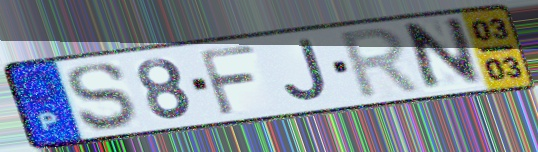8: (134, 56, 195, 122)
F: (195, 43, 261, 119)
J: (280, 37, 333, 105)
N: (404, 14, 486, 96)
R: (337, 24, 427, 103)
S: (64, 60, 139, 134)
